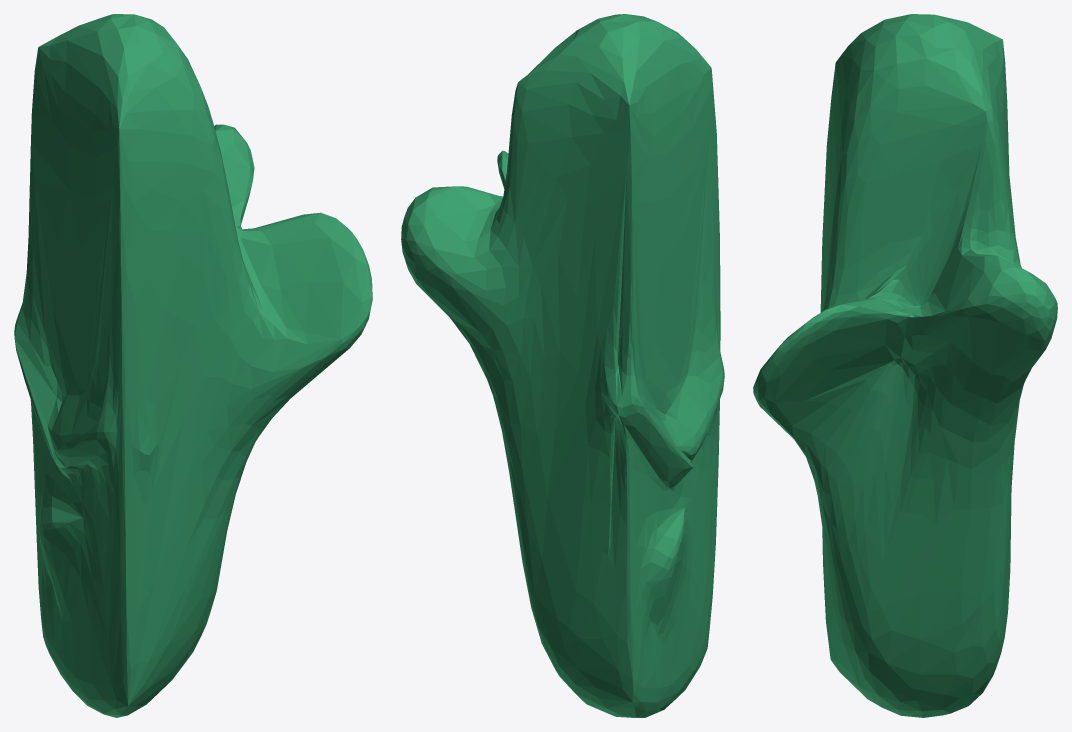
3 views of the same model, side by side, from view 1: azimuth 30°, elevation 25°; view 2: azimuth 150°, elevation 25°; view 3: azimuth 270°, elevation 25° (orthographic). The views are drawn at different scales.
Parts seen in each view (by area): view 1: 720_Cube.2891; view 2: 720_Cube.2891; view 3: 720_Cube.2891.
Part boxes in pixels (<box>): 720_Cube.2891: <box>14,14,372,717</box>; 720_Cube.2891: <box>401,14,724,717</box>; 720_Cube.2891: <box>753,14,1057,717</box>.
Bounding box in the file's own units: 4.4 × 11.55 × 4.56.
